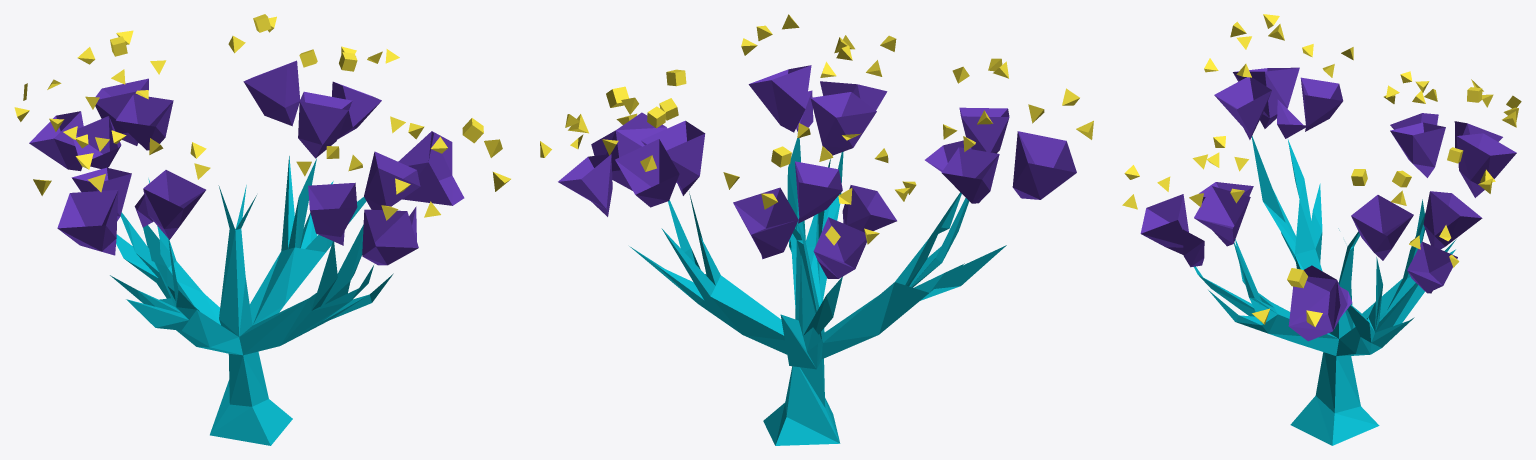
The model's file is bulb.glb.
3 views of the same model, side by side, from view 1: azimuth 30°, elevation 25°; view 2: azimuth 150°, elevation 25°; view 3: azimuth 270°, elevation 25° (orthographic). The views are drawn at different scales.
Parts seen in each view (by area): view 1: Node; view 2: Node; view 3: Node.
Boxes of the visible parts, box(x1,y1,x2,y2) form: Node: box(14, 14, 510, 445); Node: box(540, 14, 1093, 445); Node: box(1122, 14, 1521, 445).
Bounding box in the file's own units: 3.32 × 2.33 × 2.58.
